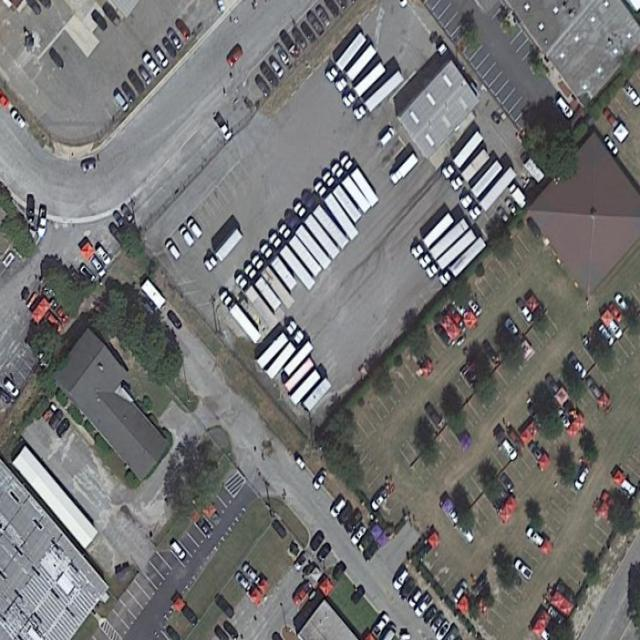large-vehicle: (301, 189, 351, 251), (293, 201, 341, 260), (269, 232, 316, 291), (418, 217, 470, 270), (314, 180, 359, 241), (353, 69, 405, 121), (285, 215, 333, 271), (469, 166, 517, 222), (426, 229, 477, 280), (277, 222, 323, 278), (251, 254, 296, 311), (439, 236, 487, 288), (234, 273, 278, 328), (220, 290, 263, 344), (339, 154, 380, 208), (342, 61, 387, 110), (331, 162, 372, 215), (411, 211, 455, 260), (325, 32, 367, 83), (322, 171, 362, 224), (441, 131, 484, 180), (257, 319, 298, 370), (461, 161, 503, 210), (335, 44, 377, 92), (266, 329, 305, 380), (203, 228, 244, 274), (260, 243, 298, 291), (245, 263, 282, 311), (450, 149, 490, 192), (390, 152, 419, 186), (507, 180, 529, 210)
small-vehicle: (356, 520, 385, 556), (363, 530, 390, 564), (277, 27, 302, 60), (439, 496, 464, 528), (191, 511, 215, 541), (212, 111, 234, 142), (423, 401, 446, 430), (101, 0, 124, 29), (260, 60, 282, 90), (344, 507, 366, 537), (573, 462, 594, 493), (503, 317, 524, 347), (201, 500, 223, 528), (413, 591, 435, 619), (292, 579, 313, 608), (336, 498, 356, 528), (554, 579, 577, 605), (306, 10, 327, 38), (567, 354, 588, 381), (370, 612, 391, 639), (397, 576, 418, 603), (500, 436, 521, 463), (555, 94, 576, 121), (127, 68, 146, 97), (481, 340, 502, 366), (142, 52, 162, 79), (584, 375, 604, 402), (328, 493, 348, 520), (391, 566, 411, 593), (216, 595, 237, 620), (369, 488, 390, 513), (165, 27, 185, 53), (90, 8, 110, 34), (434, 322, 454, 348), (298, 18, 317, 45), (314, 3, 333, 30), (516, 298, 535, 325), (597, 322, 615, 350), (225, 44, 245, 69), (88, 253, 108, 278), (242, 561, 262, 586), (514, 557, 534, 582), (349, 520, 368, 546), (451, 579, 470, 605), (174, 16, 192, 43), (108, 222, 128, 246), (181, 603, 201, 627), (525, 526, 545, 550), (254, 74, 273, 99), (465, 295, 484, 320), (613, 292, 632, 317), (291, 25, 309, 51), (47, 47, 67, 70), (377, 125, 397, 148), (273, 42, 291, 67), (170, 538, 188, 563), (9, 107, 27, 132), (602, 106, 620, 131), (311, 467, 329, 492), (179, 224, 196, 250), (543, 372, 562, 395), (152, 44, 170, 68), (161, 36, 179, 60), (119, 202, 137, 226), (164, 238, 182, 262), (187, 217, 205, 241), (166, 308, 184, 332), (48, 408, 66, 432), (622, 81, 640, 105), (309, 529, 327, 553), (78, 263, 98, 284), (235, 571, 253, 594), (54, 416, 72, 439), (555, 408, 573, 431), (270, 518, 288, 541), (349, 583, 367, 606), (429, 611, 447, 634), (293, 550, 311, 573), (121, 80, 138, 104), (500, 472, 517, 496), (407, 587, 424, 611), (546, 605, 565, 626), (37, 204, 49, 237), (3, 378, 21, 400), (603, 134, 620, 157), (137, 64, 154, 87), (269, 57, 286, 80), (95, 244, 112, 267), (422, 603, 439, 626), (316, 541, 333, 564), (608, 318, 625, 341), (113, 91, 130, 113), (528, 440, 545, 462), (526, 216, 542, 239), (332, 559, 348, 582), (621, 477, 637, 500), (112, 209, 128, 231), (42, 402, 57, 425), (503, 198, 520, 218), (496, 207, 511, 225), (81, 158, 98, 173), (26, 194, 35, 221)
